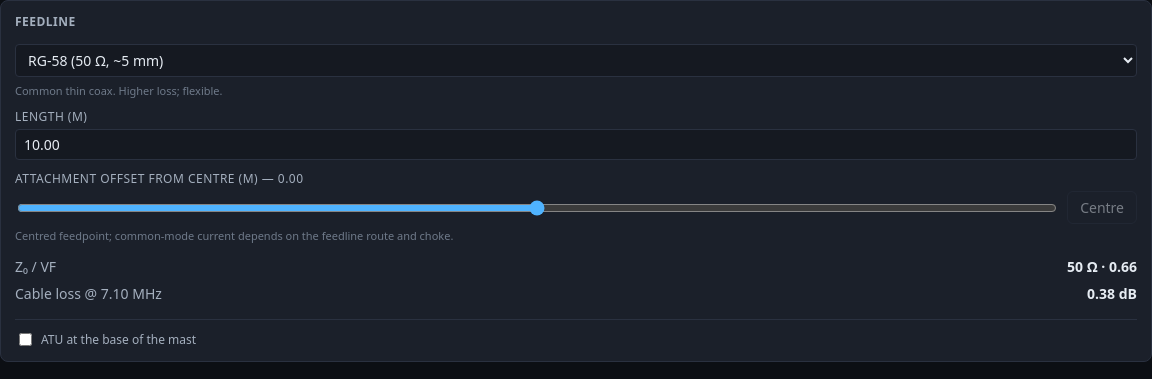
Test: FeedlineControl › updates the feedline offset via the slider for a dipole
The image size is (1152, 379).
Set the slider named "Feedline attachment offset" to "3" at (691,208), box [17,200,1057,216]
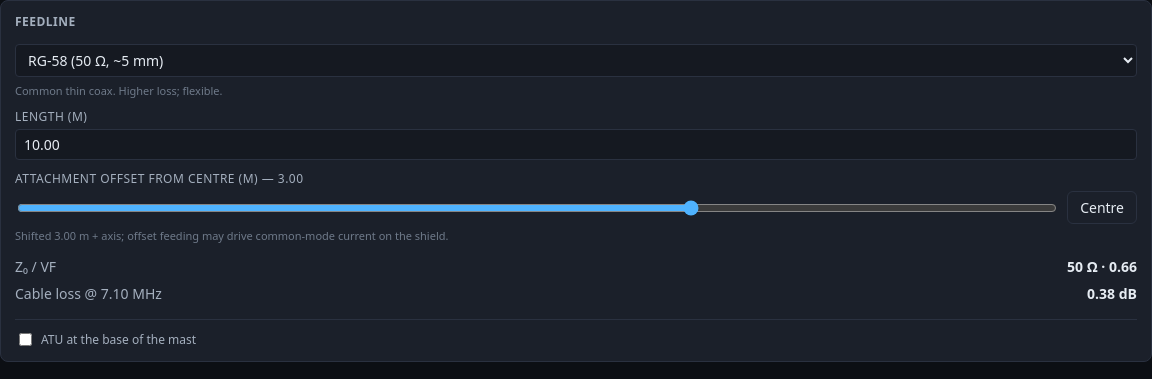
Expected: the text "may drive common-mode current on the shield" is shown, [15,228,448,243]
